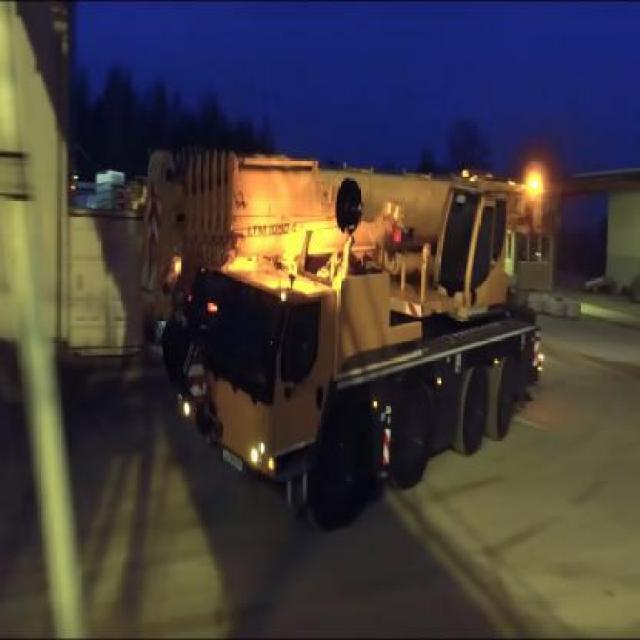Mobile Crane: (144, 148, 542, 541)
